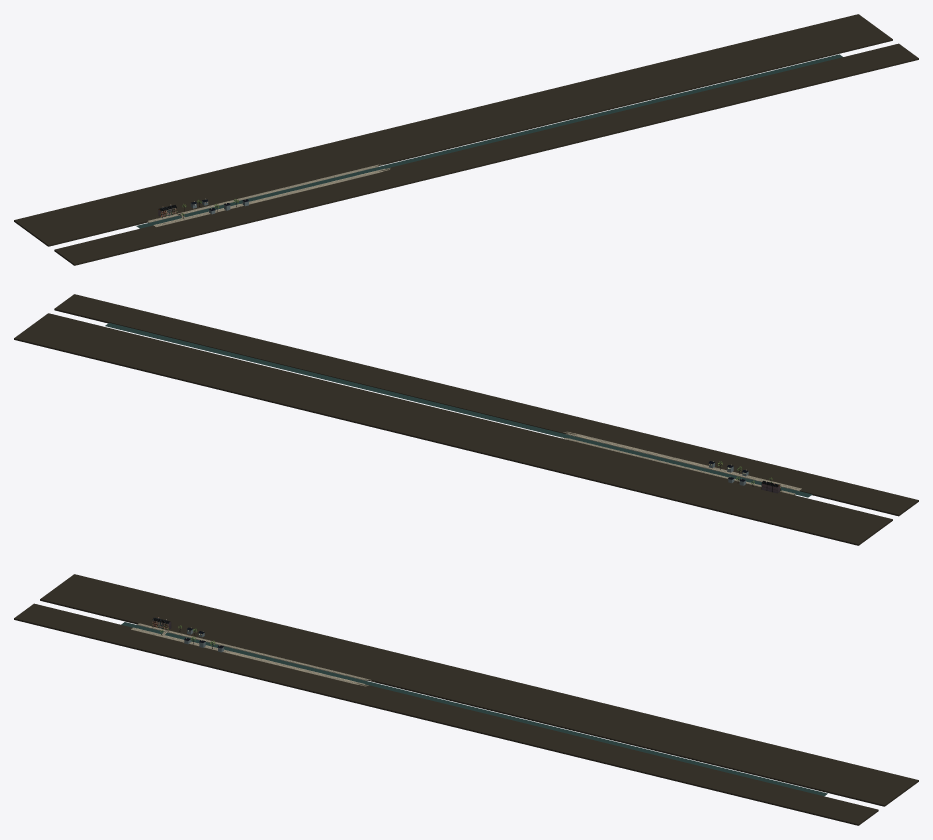
File: lookdev-v4.glb
3 renders of one model, top to bottom at view 1: azimuth 30°, elevation 25°; view 2: azimuth 150°, elevation 25°; view 3: azimuth 330°, elevation 25°, orthographic.
Visible parts, largest first — view 1: Material group / soil, Material group / Canal water, Material group / paving; view 2: Material group / soil, Material group / Canal water, Material group / paving; view 3: Material group / soil, Material group / Canal water, Material group / paving.
Boxes of the visible parts, <box> form: Material group / soil: <box>14,14,918,265</box>; Material group / Canal water: <box>136,54,842,228</box>; Material group / paving: <box>148,164,390,226</box>; Material group / soil: <box>14,294,918,545</box>; Material group / Canal water: <box>105,323,812,497</box>; Material group / paving: <box>559,431,801,494</box>; Material group / soil: <box>14,574,918,825</box>; Material group / Canal water: <box>121,622,827,796</box>; Material group / paving: <box>131,623,374,686</box>.
Size of the model in its own units: 960 by 11.58 by 119.
Materials: 29 (9 with a texture image).
